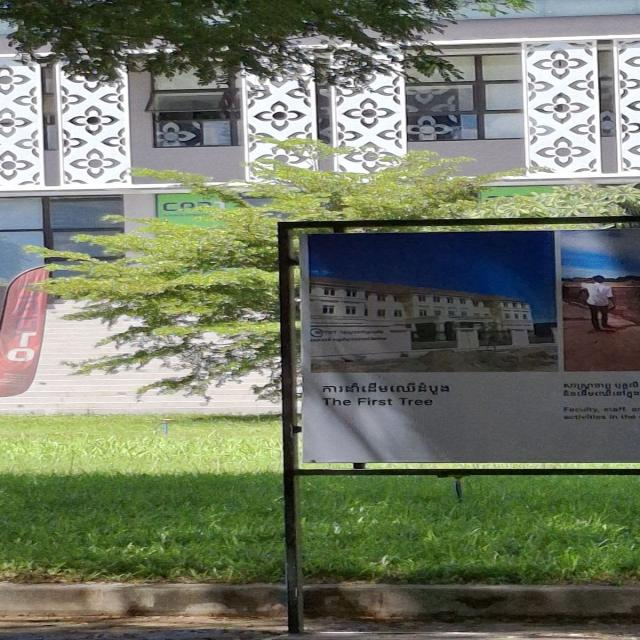Yolov11_80vkh: (313, 380, 458, 397)
